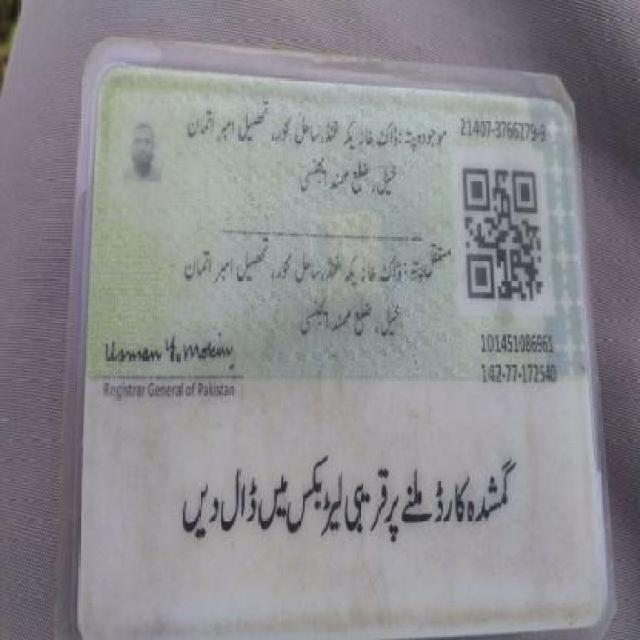Back: (80, 68, 602, 629)
